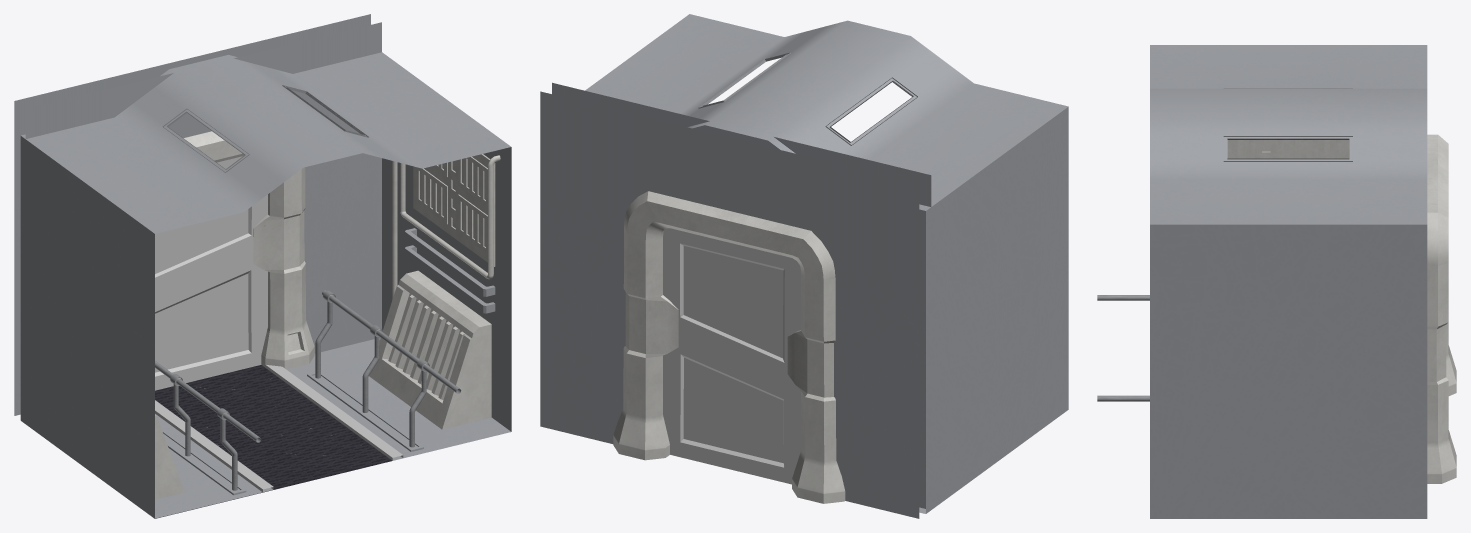
Rendered from exitTunnel.fbx.
3 views of the same model, side by side, from view 1: azimuth 30°, elevation 25°; view 2: azimuth 150°, elevation 25°; view 3: azimuth 270°, elevation 25° (orthographic). The views are drawn at different scales.
Visible parts, largest first — view 1: exitTunnel, doorWall, doorBottom, doorFrame, doorTop; view 2: exitTunnel, doorWall, doorFrame, doorBottom, doorTop; view 3: exitTunnel, doorFrame.
Boxes of the visible parts, x1,y1,x2,y2 form: exitTunnel: (20,52,511,518); doorWall: (14,14,381,415); doorBottom: (155,252,267,390); doorFrame: (183,131,314,369); doorTop: (155,156,267,294); exitTunnel: (585,14,1068,513); doorWall: (540,82,931,518); doorFrame: (613,191,845,503); doorBottom: (663,335,801,484); doorTop: (663,228,800,385); exitTunnel: (1097,45,1427,518); doorFrame: (1427,134,1456,483).
Size of the model in its own units: 4 by 3.38 by 3.38.
